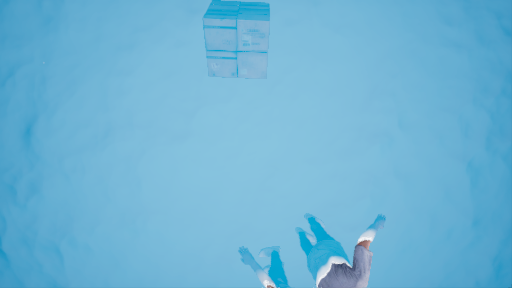person: (300, 206, 391, 288)
